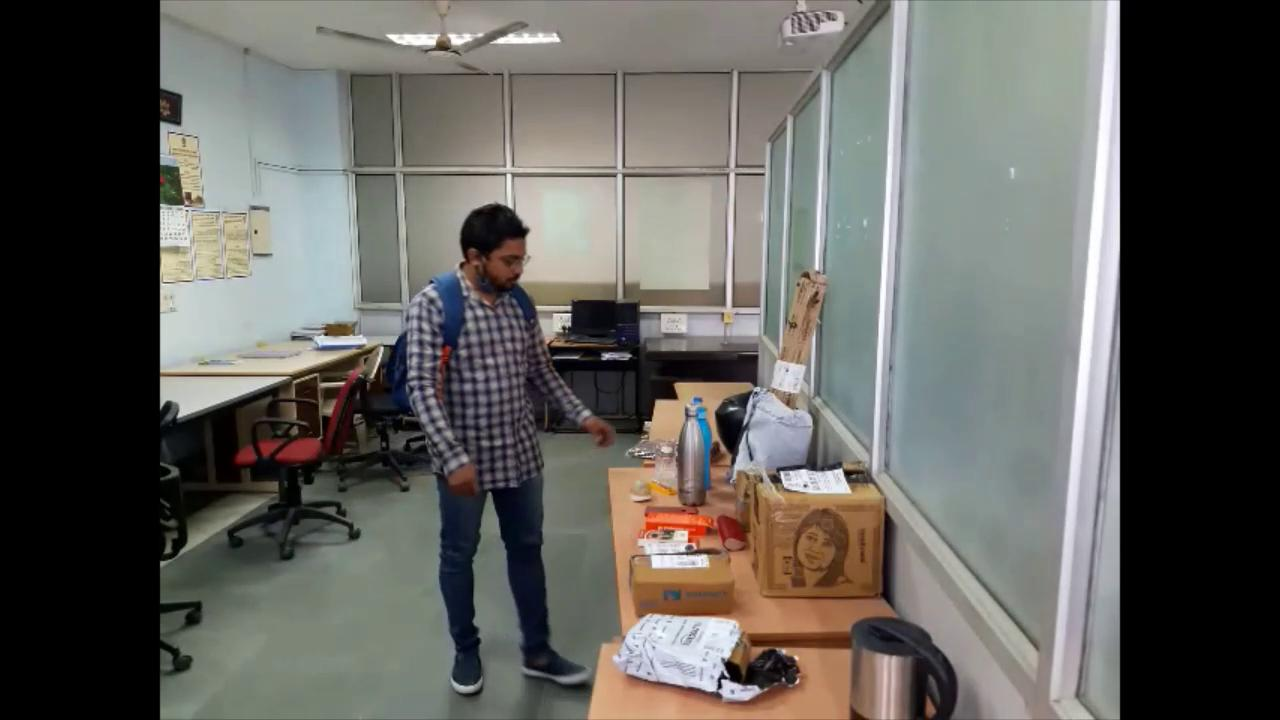Normal: (389, 202, 624, 720)
